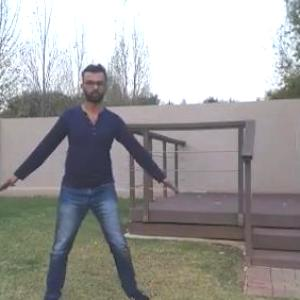land: (0, 61, 166, 299)
